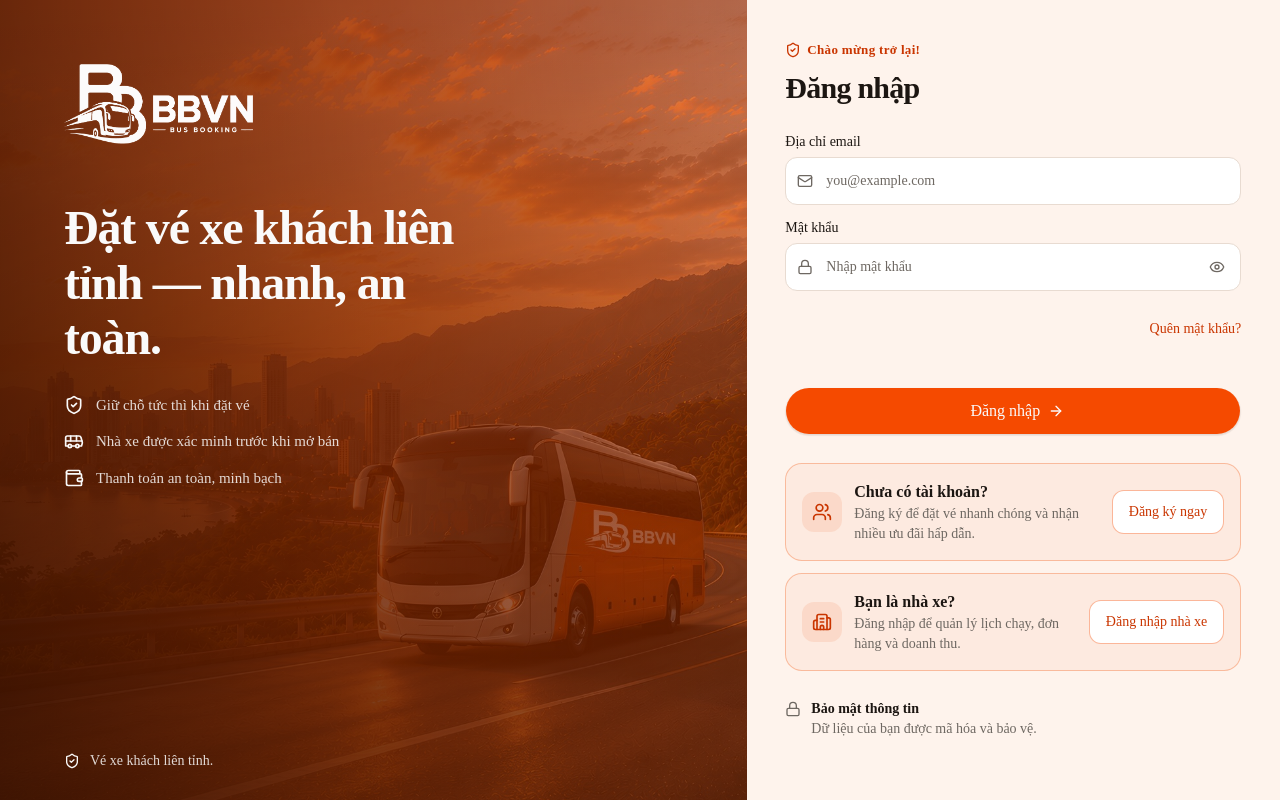
Test: LoginPage › shows the credential error on a 401
The image size is (1280, 800).
Type "a@example.com" into the field labelled "Địa chỉ email".
click(1013, 181); type("a@example.com")  # box [785,157,1241,205]
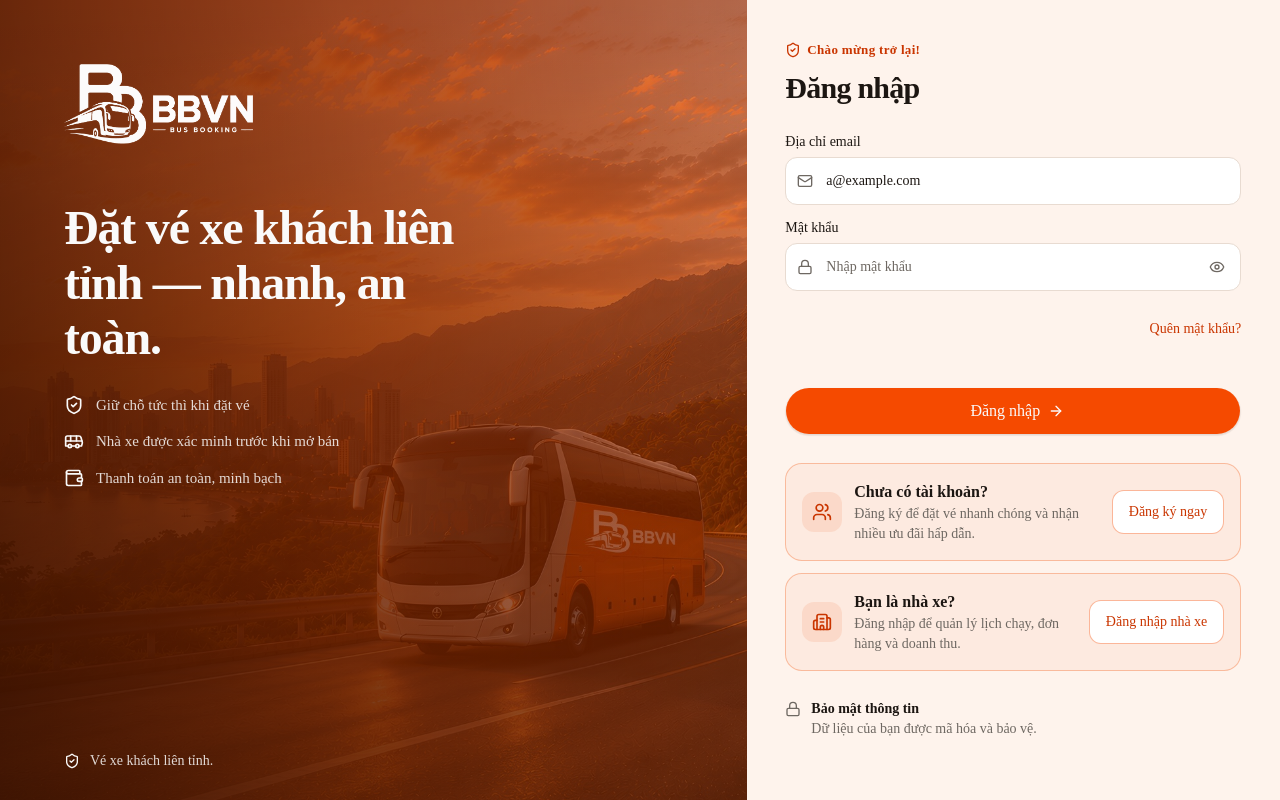
Type "WrongPass1" into the password field labelled "Mật khẩu".
click(1013, 267); type("WrongPass1")  # box [785,243,1241,291]
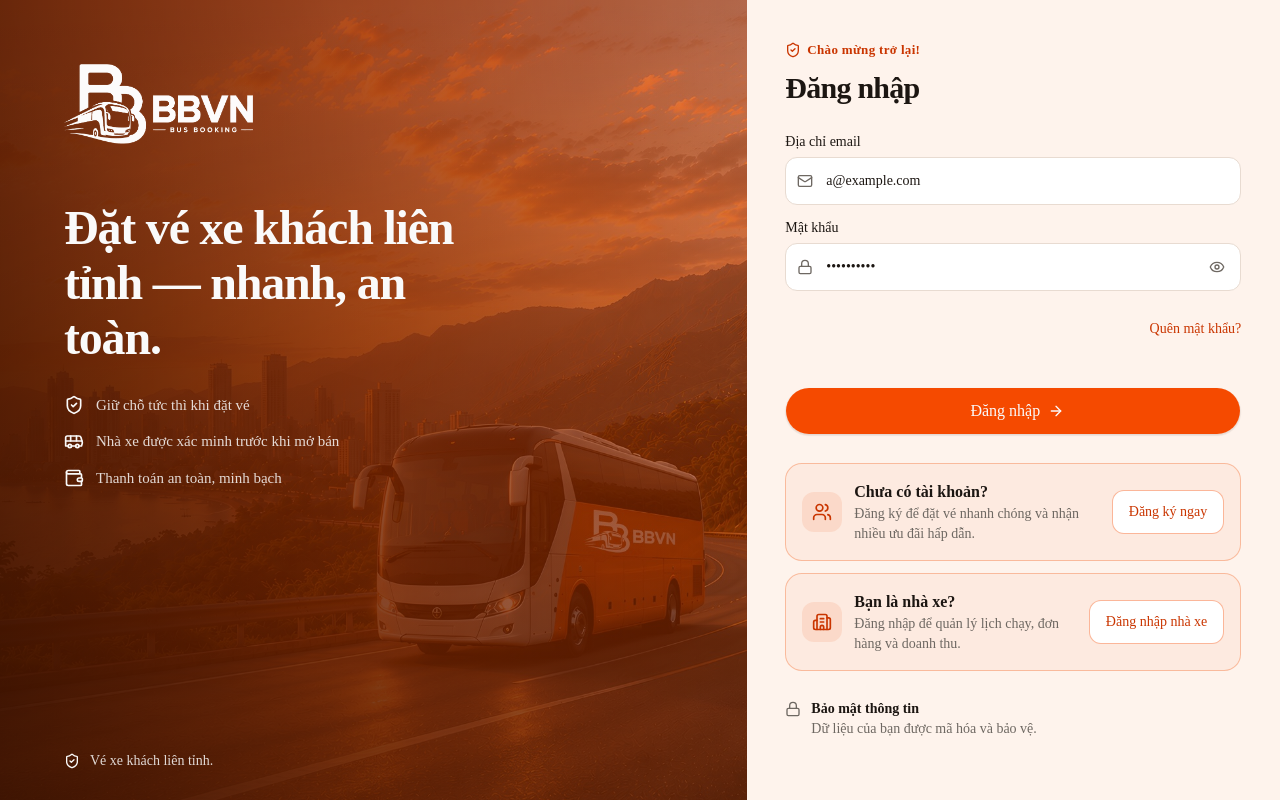
Submit the form labelled "Địa chỉ email", box [785,135,1241,435]
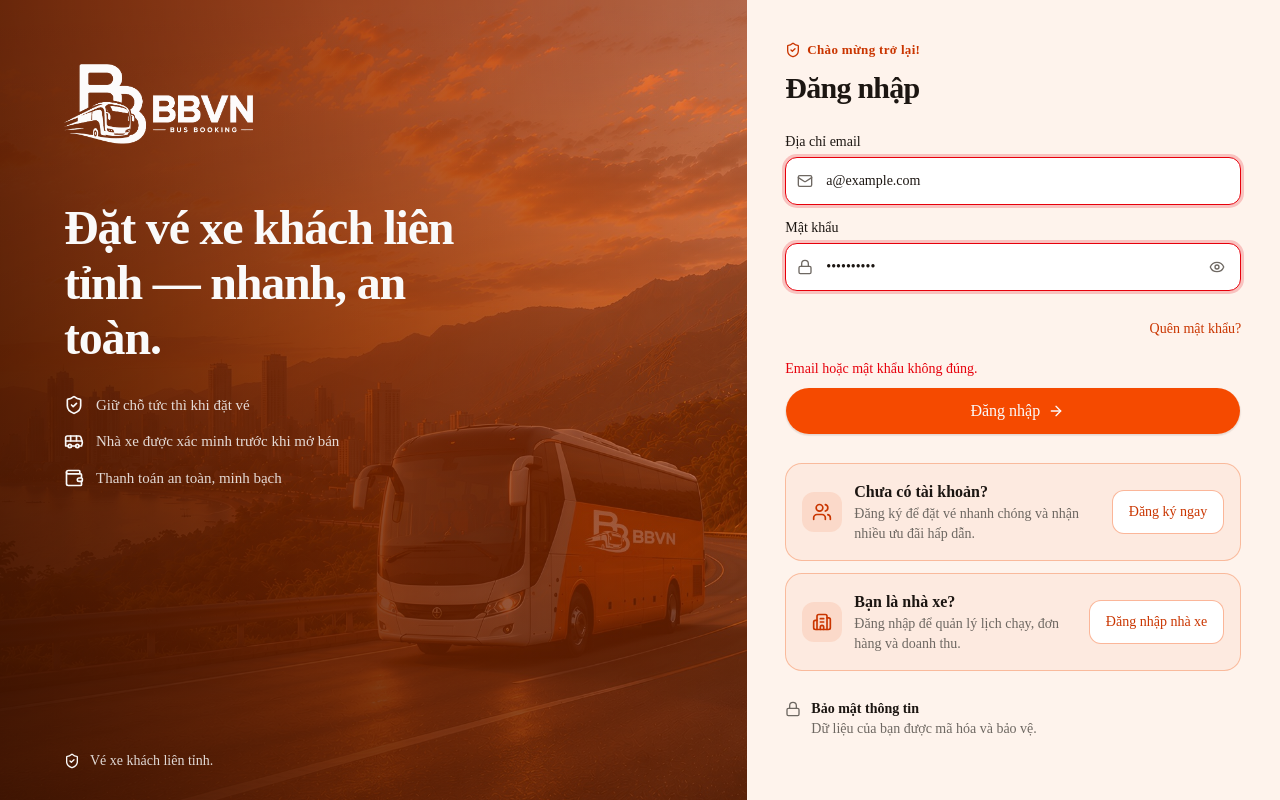
Result: the text "Email hoặc mật khẩu không đúng." is shown at [785,361,977,376]
